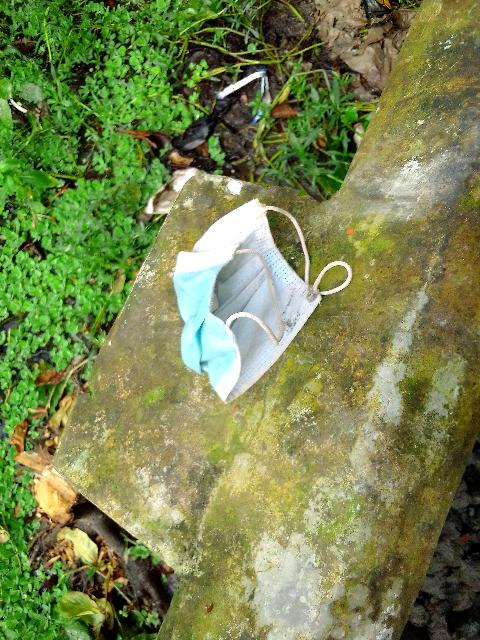mask: (185, 198, 313, 383)
